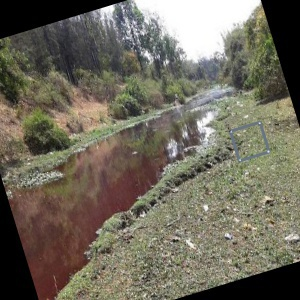square: (227, 122, 271, 162)
